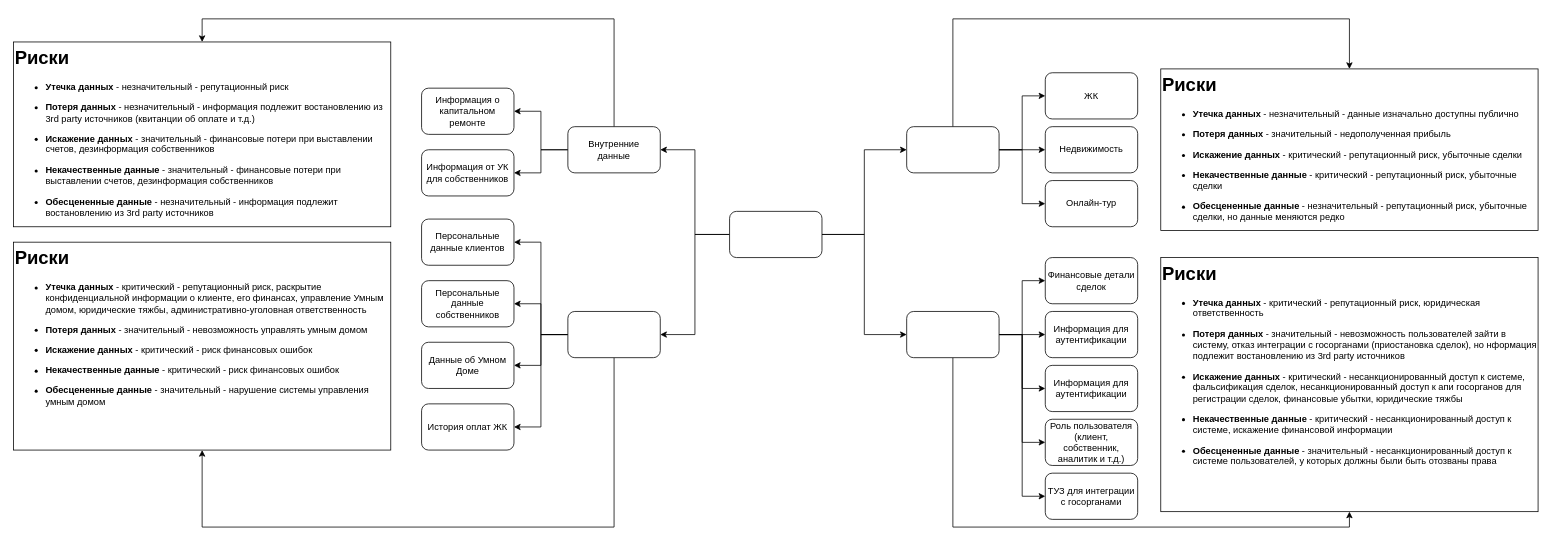
Image size: 1552x547. Some labels were removed from this diagram. The shapes that lost their labels are listed below. From the top down, each one's centre as x and y in pixels, then its label:
At point 952,149: "Публичные данные".
At point 775,234: "Безопасность данных".
At point 613,334: "Конфиденциальные данные".
At point 952,334: "Секретные данные".
